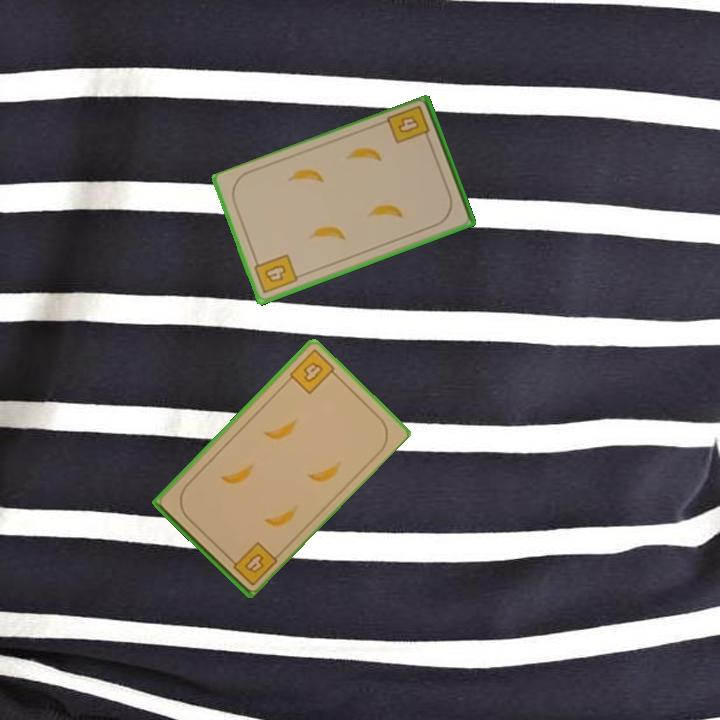4b: (285, 346, 341, 397), (224, 538, 280, 589), (250, 251, 300, 297), (384, 102, 433, 147)
